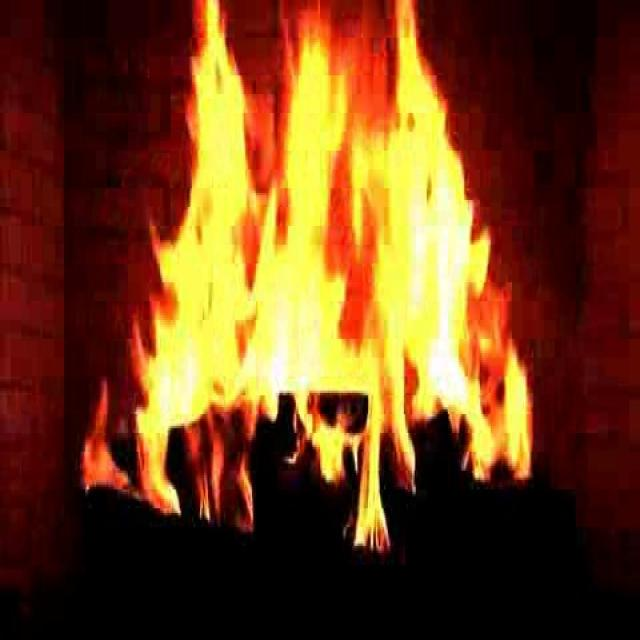fire: (141, 15, 524, 513)
